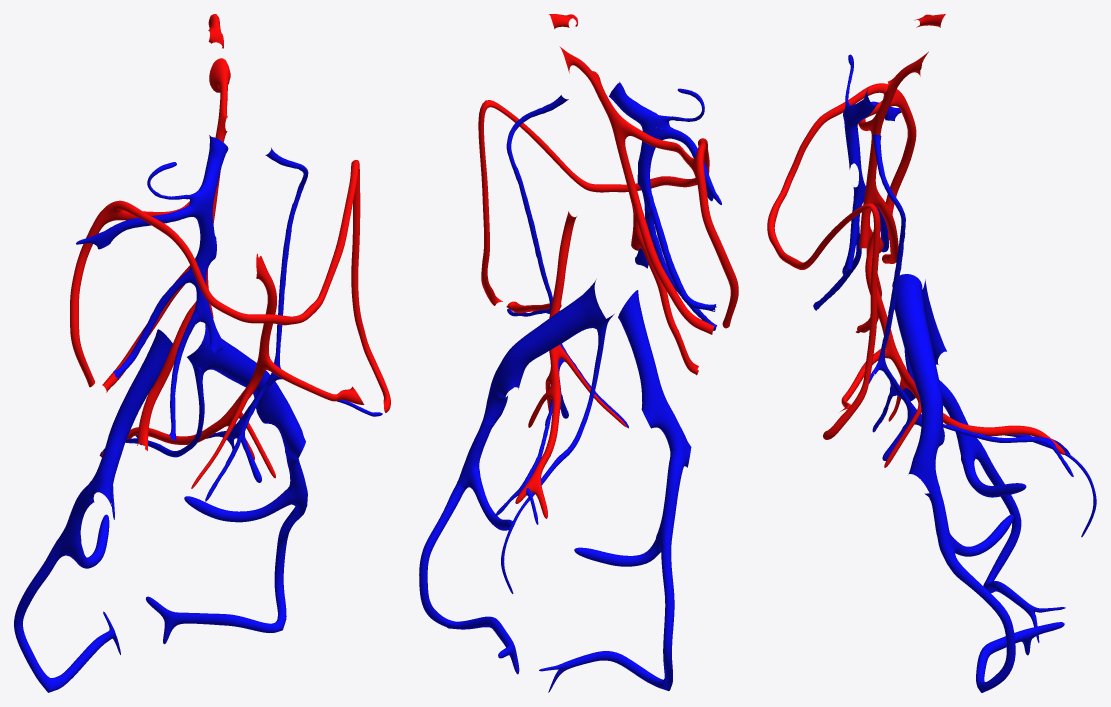
File: 3d-vh-f-large-intestine-landmark.glb
3 renders of one model, left to right at view 1: azimuth 30°, elevation 25°; view 2: azimuth 150°, elevation 25°; view 3: azimuth 270°, elevation 25°, orthographic. The views are drawn at different scales.
Parts seen in each view (by area): view 1: VH_F_large_intestine_landmark_veins, VH_F_large_intestine_landmark_arteries; view 2: VH_F_large_intestine_landmark_veins, VH_F_large_intestine_landmark_arteries; view 3: VH_F_large_intestine_landmark_veins, VH_F_large_intestine_landmark_arteries.
Part boxes in pixels (box(x1,y1,x2,y2)): VH_F_large_intestine_landmark_veins: box(14, 135, 382, 692); VH_F_large_intestine_landmark_arteries: box(70, 14, 390, 488); VH_F_large_intestine_landmark_veins: box(419, 81, 721, 692); VH_F_large_intestine_landmark_arteries: box(478, 14, 738, 518); VH_F_large_intestine_landmark_veins: box(813, 54, 1096, 692); VH_F_large_intestine_landmark_arteries: box(767, 14, 1064, 467).
Size of the model in its own units: 0.1496 by 0.3296 by 0.151.
